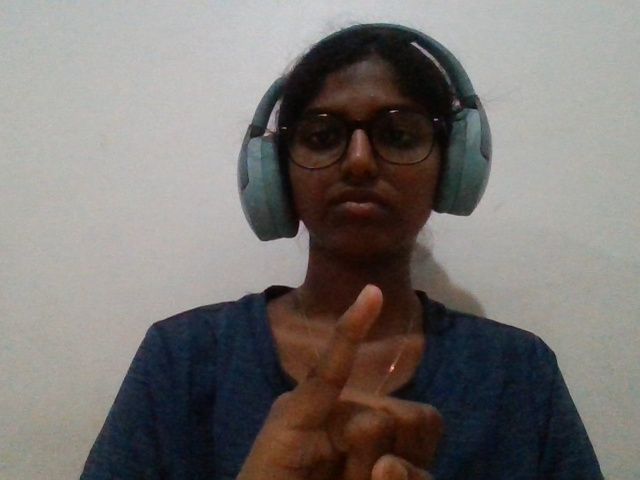I: (222, 275, 479, 478)
